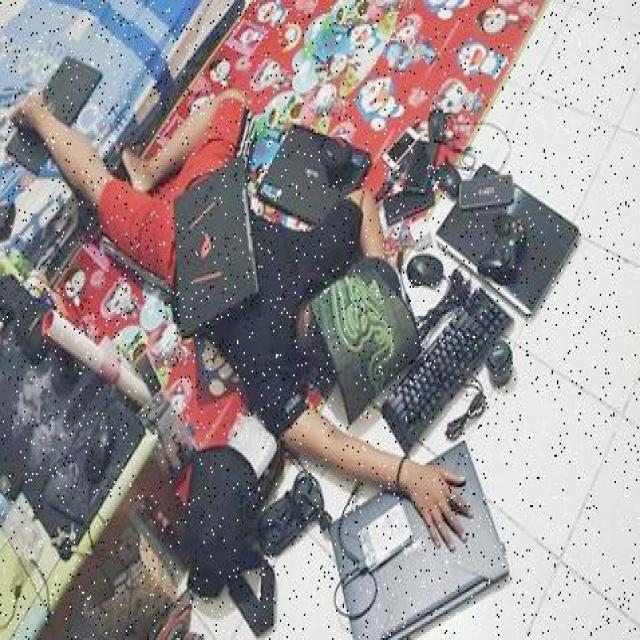fall: (20, 85, 446, 508)
